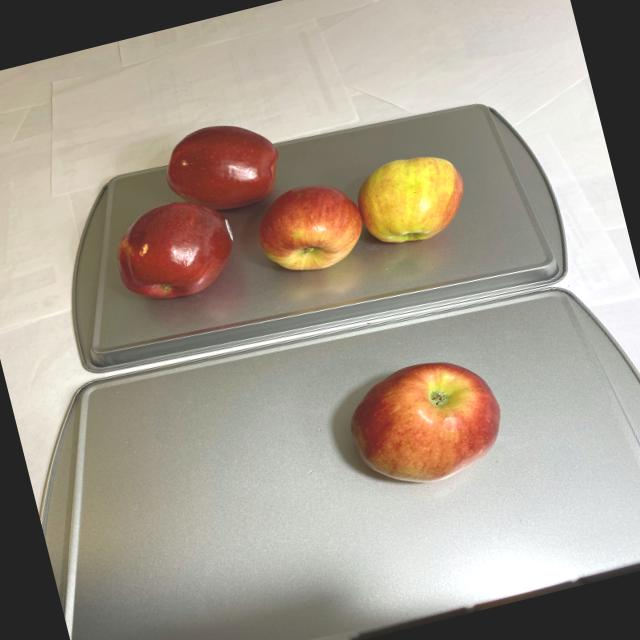apple: (84, 70, 476, 318), (332, 344, 513, 500)
